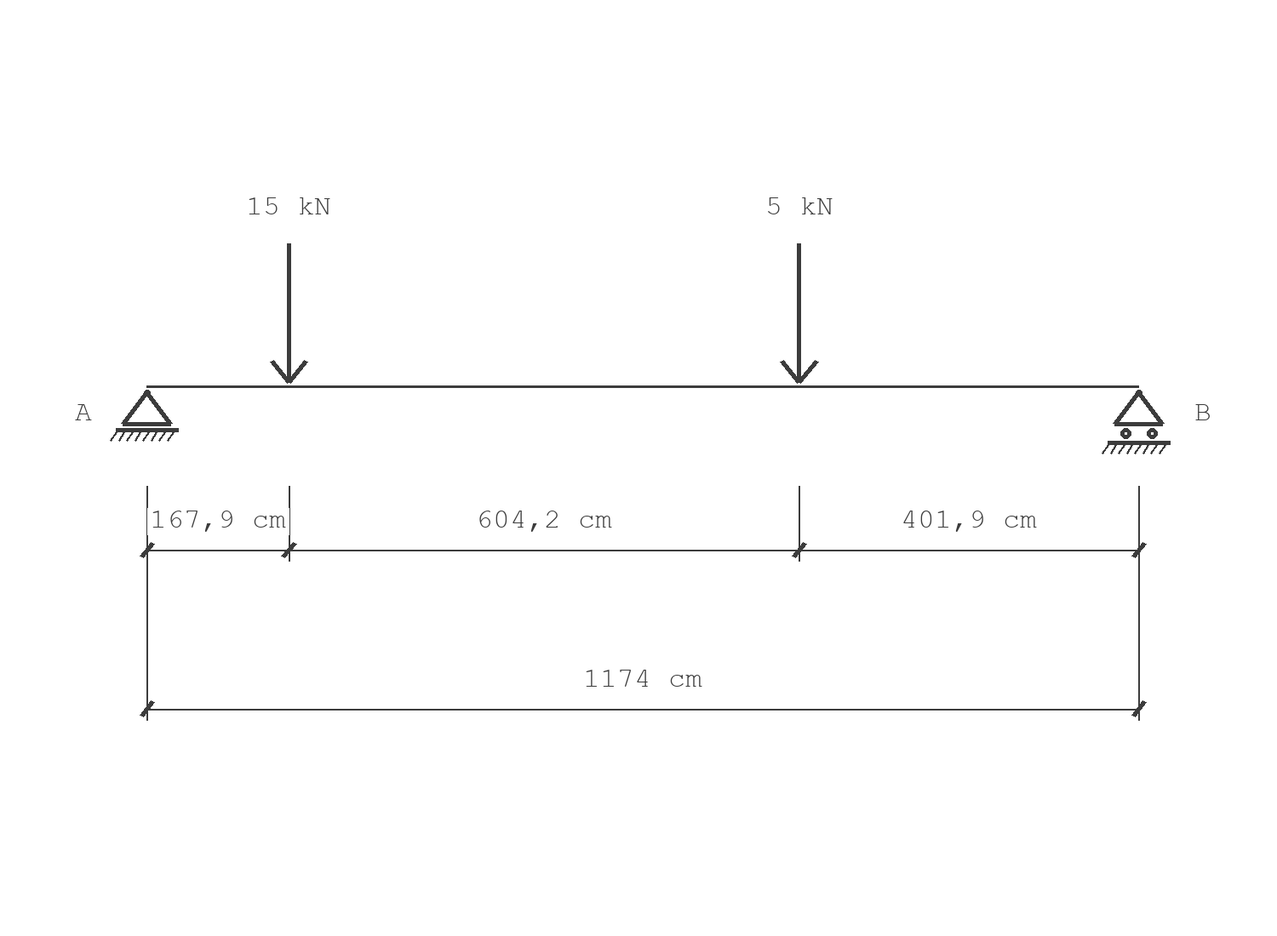pin_support: (110, 390, 179, 442)
point_load: (780, 243, 819, 384), (270, 243, 308, 384)
roller_support: (1102, 390, 1171, 454)
